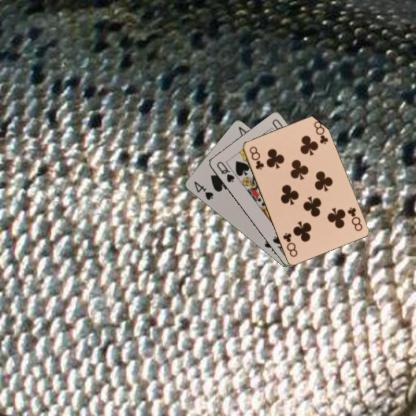4s: (192, 178, 214, 202)
8c: (344, 205, 364, 232), (247, 143, 265, 171)
Qs: (214, 159, 236, 184)
